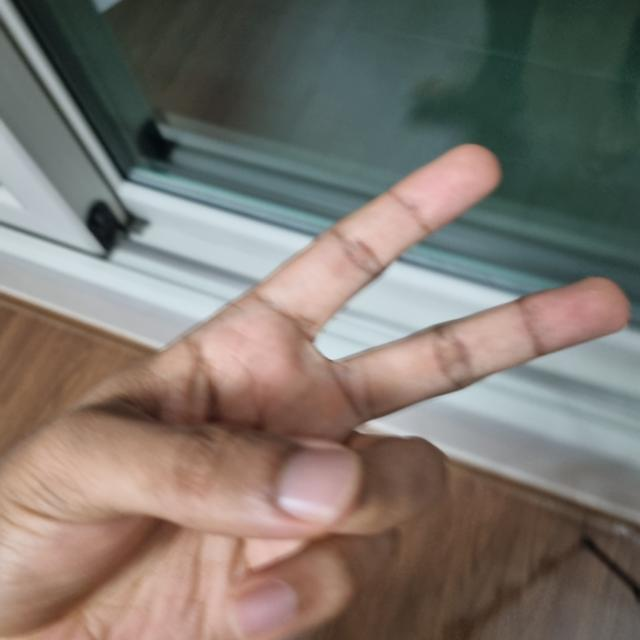Scissors: (0, 144, 631, 639)
